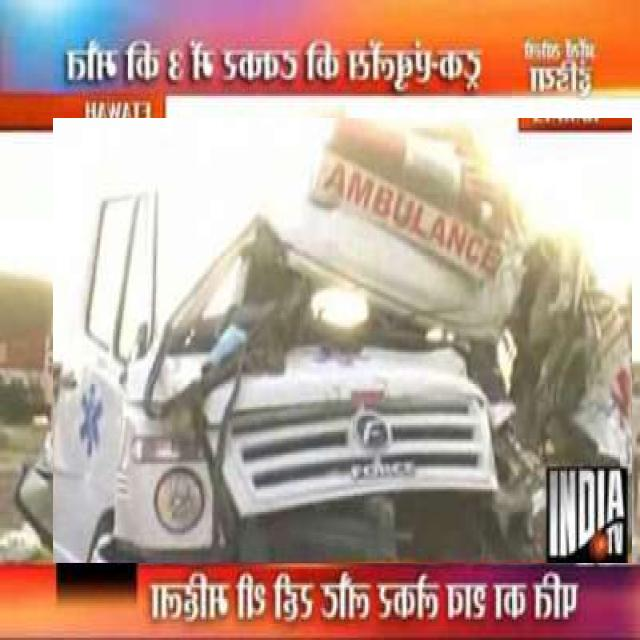accident: (53, 118, 631, 563)
